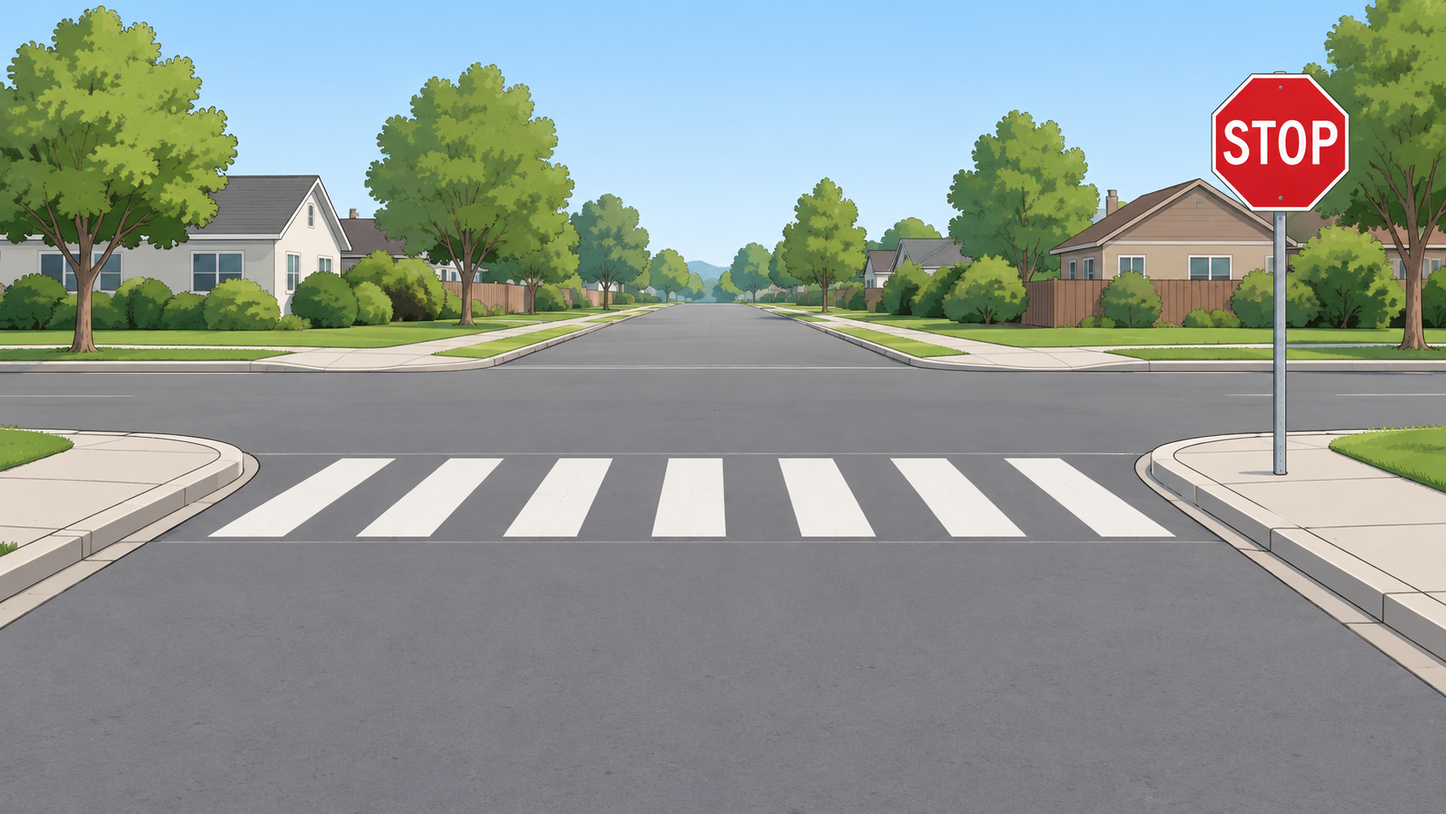stop_sign: (1213, 74, 1352, 211)
zebra_crossing: (212, 458, 1173, 538)
